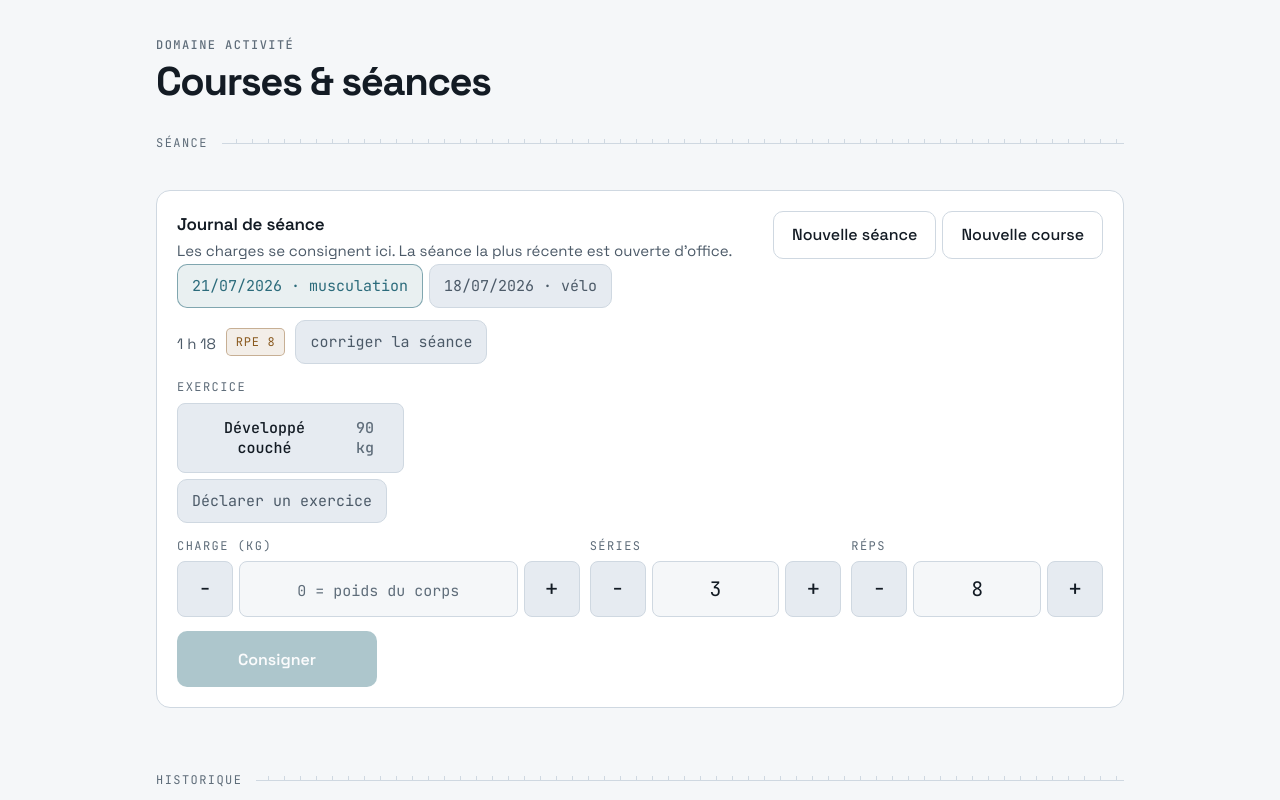
écran Activité › affiche le message du serveur sur une durée inintelligible
Step 1. Click the button "Nouvelle course" → (1023, 235), box top-left (942, 211), bottom-right (1103, 259)
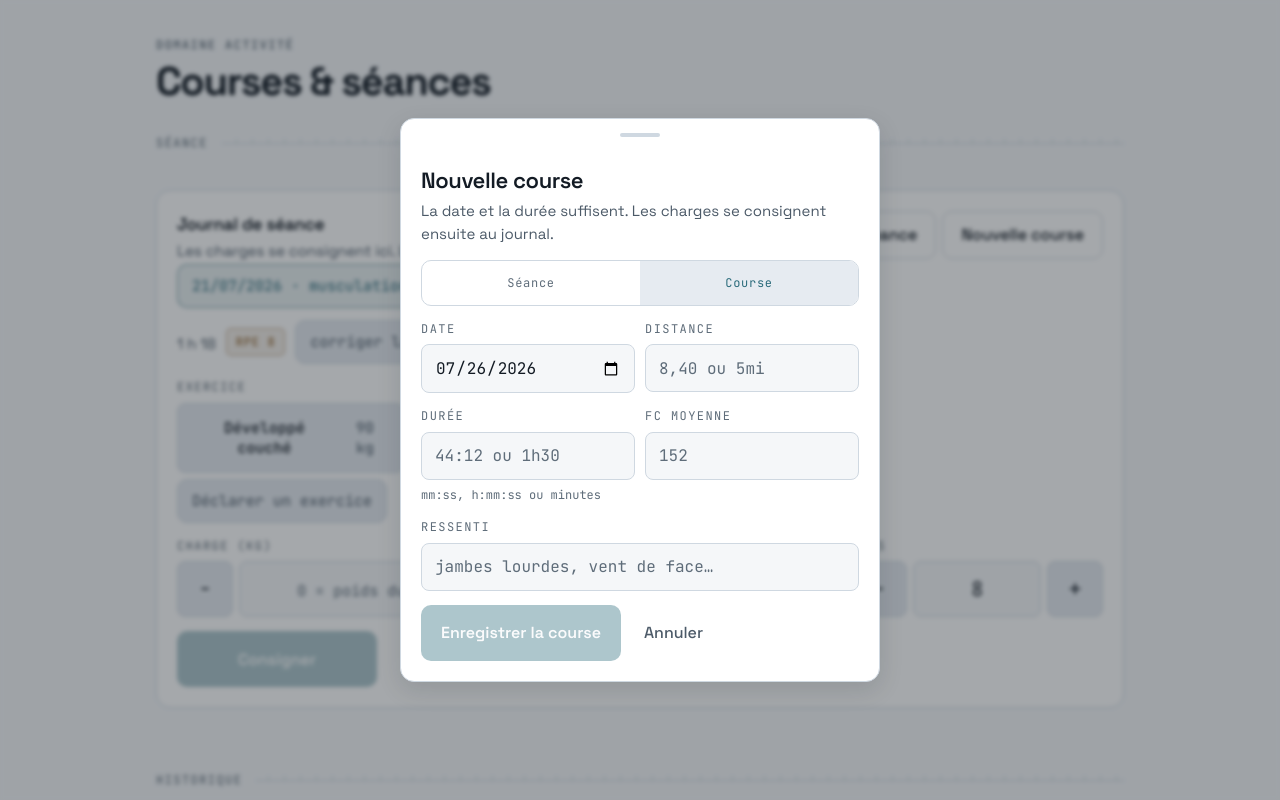
Step 2. Type "8,4" into the field labelled "Distance" → (752, 368), box top-left (645, 344), bottom-right (859, 392)
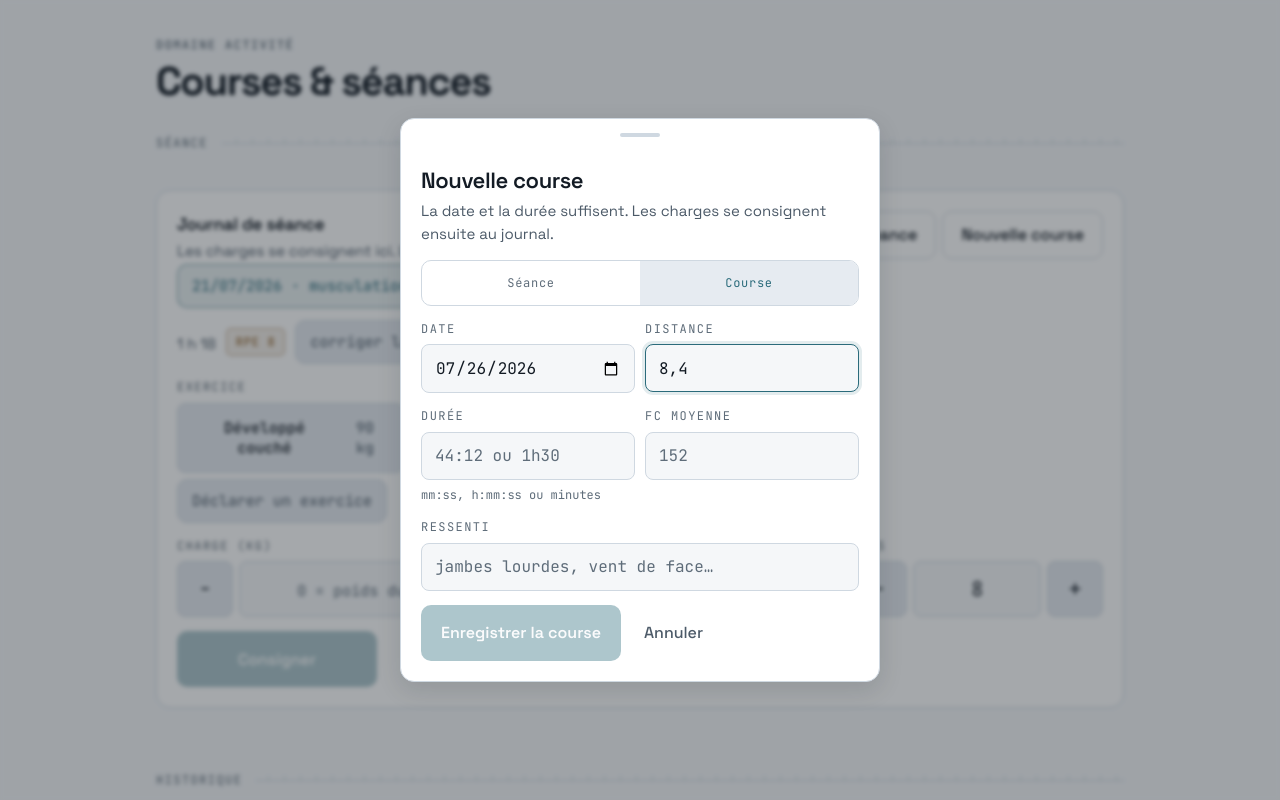
Step 3. Type "n'importe quoi" into the field labelled "Durée" → (528, 456), box top-left (421, 432), bottom-right (635, 480)
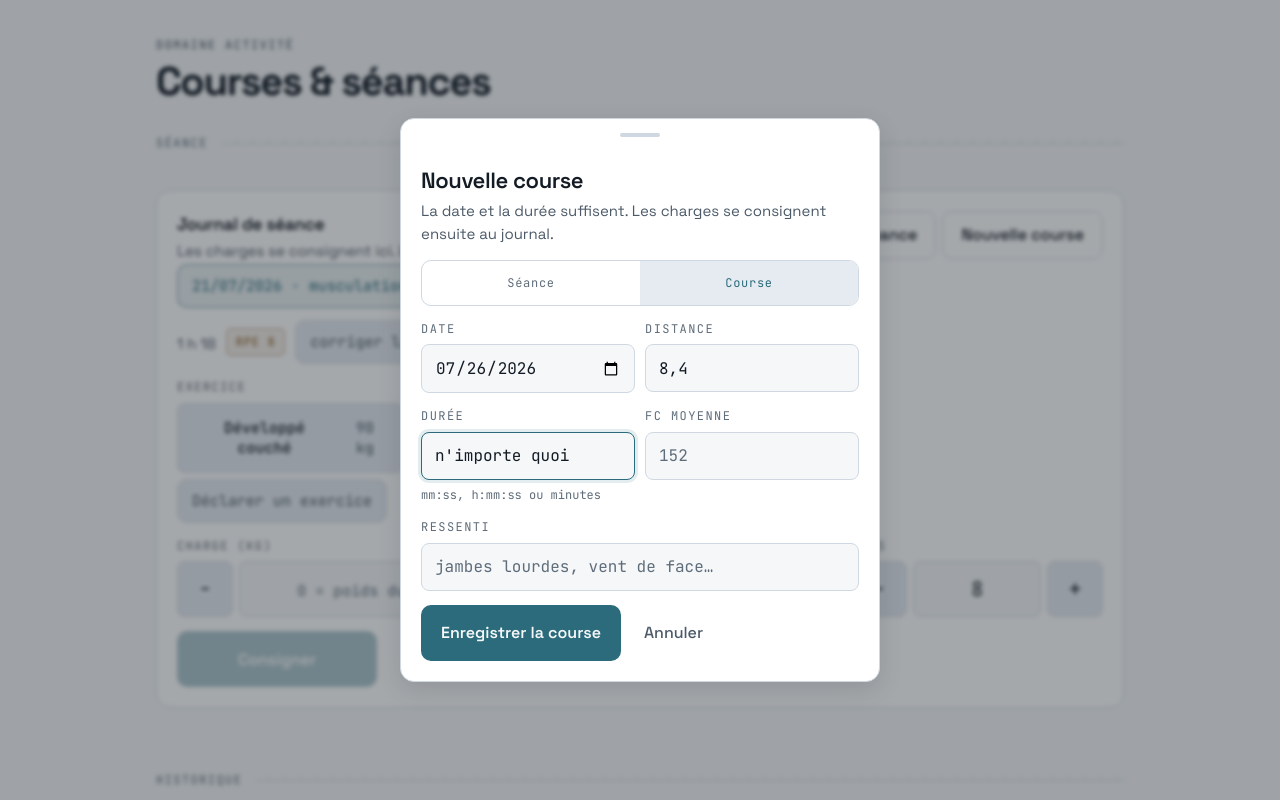
Step 4. Click the button "Enregistrer la course" → (521, 633), box top-left (421, 605), bottom-right (621, 661)
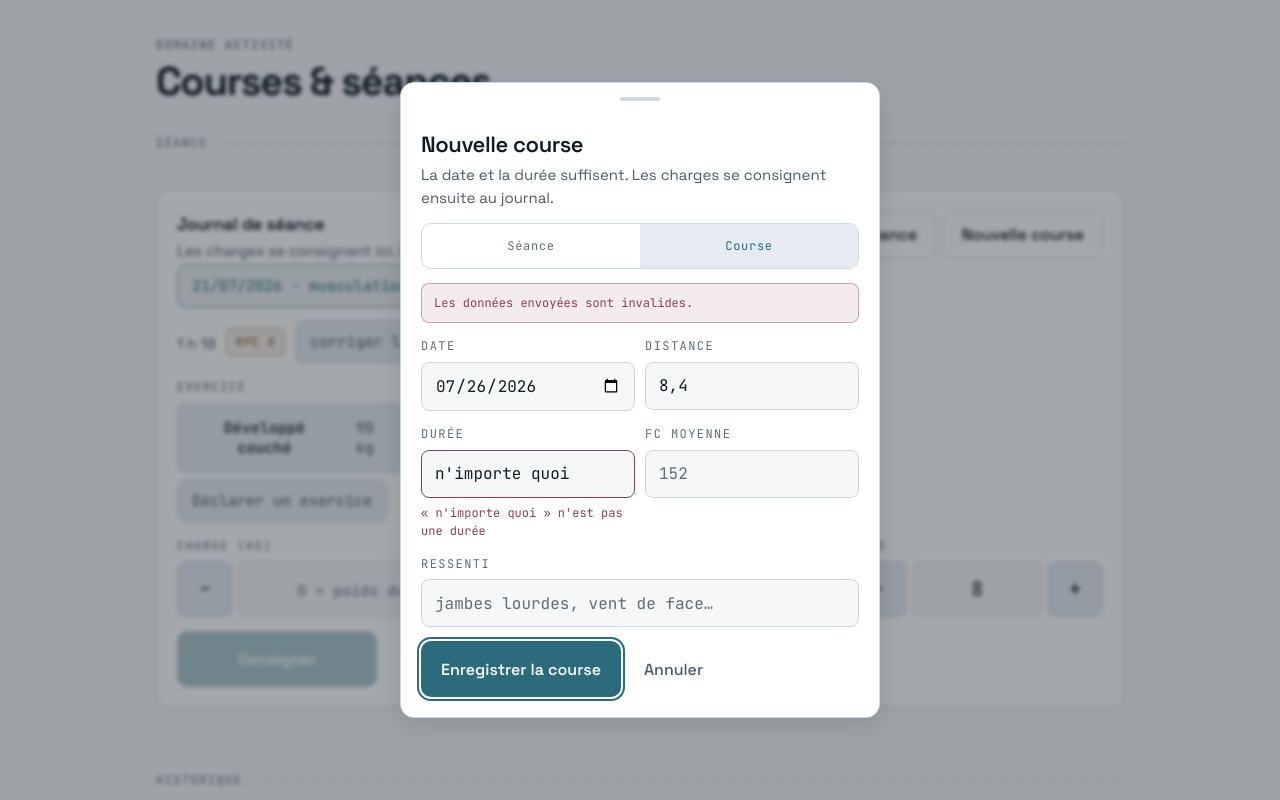
Now the text "« n'importe quoi » n'est pas une durée" is shown, box top-left (421, 504), bottom-right (635, 541)
